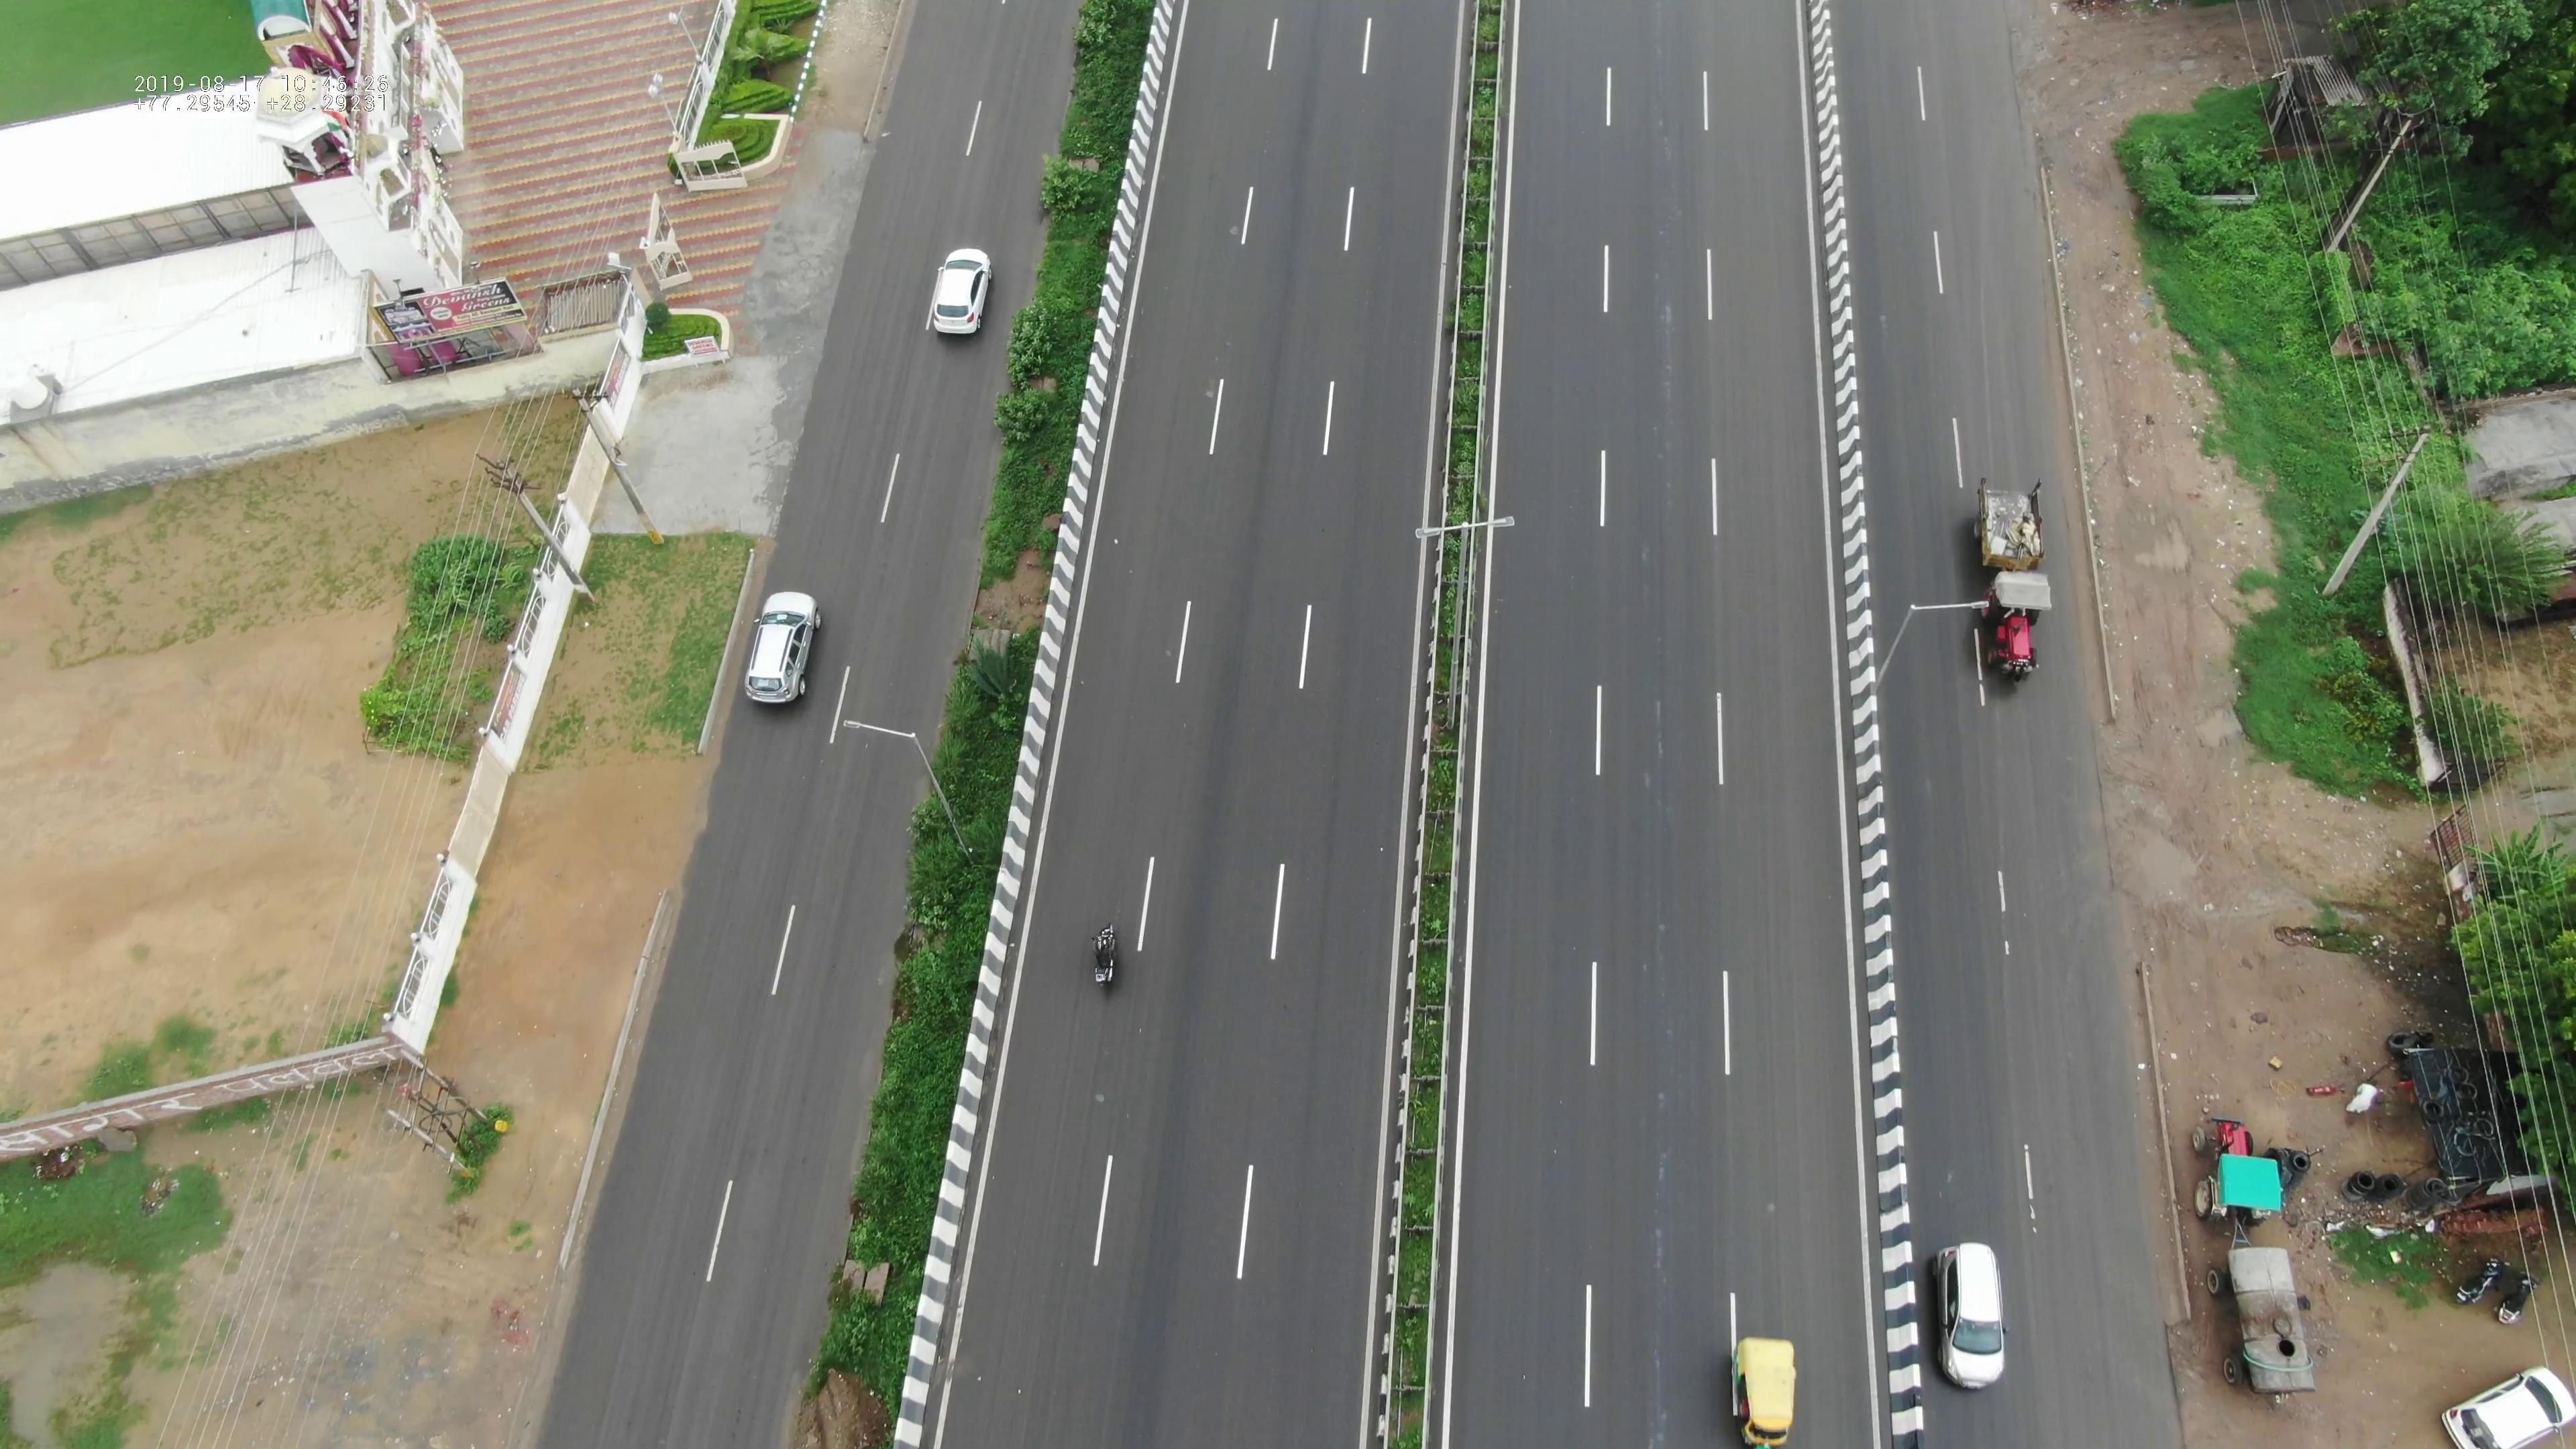Muddy_road: (2075, 747, 2235, 964)
